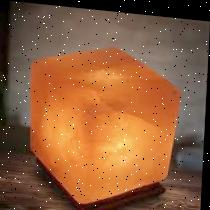cube: (27, 37, 182, 207)
